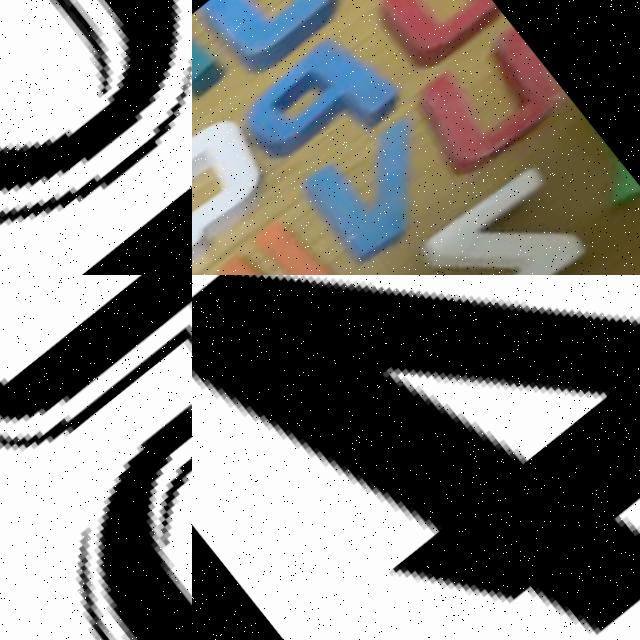5: (0, 275, 192, 640)
J: (194, 0, 355, 84)
K: (192, 16, 233, 159)
O: (366, 0, 505, 78)
P: (238, 23, 404, 184)
Q: (192, 100, 291, 275)
U: (408, 20, 570, 183)
V: (300, 114, 460, 272)
W: (192, 213, 347, 275)
Z: (408, 162, 597, 275)
